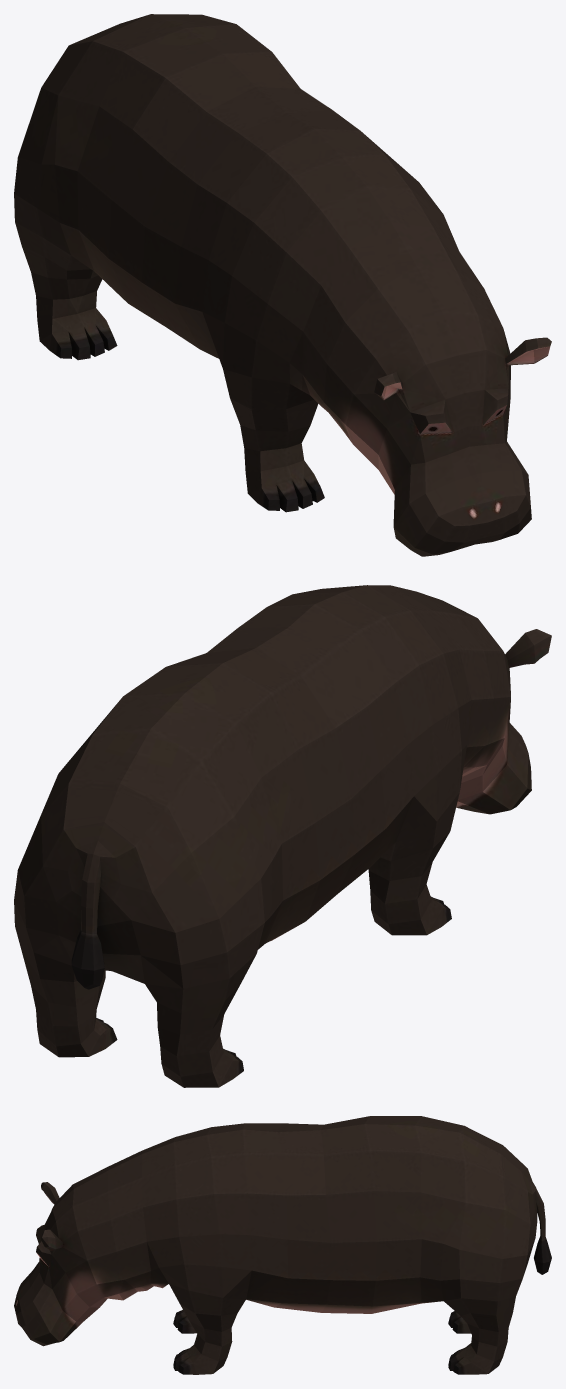
Rendered from hipopotamo.glb.
3 renders of one model, top to bottom at view 1: azimuth 30°, elevation 25°; view 2: azimuth 150°, elevation 25°; view 3: azimuth 270°, elevation 25°, orthographic. The views are drawn at different scales.
Visible parts, largest first — view 1: Hippopotamus_Mesh; view 2: Hippopotamus_Mesh; view 3: Hippopotamus_Mesh.
Part boxes in pixels (bbox=[...]): Hippopotamus_Mesh: bbox=[14, 14, 551, 556]; Hippopotamus_Mesh: bbox=[14, 585, 551, 1087]; Hippopotamus_Mesh: bbox=[14, 1116, 551, 1374].
Size of the model in its own units: 5.53 by 7.75 by 17.05.
Materials: 1 (1 with a texture image).
